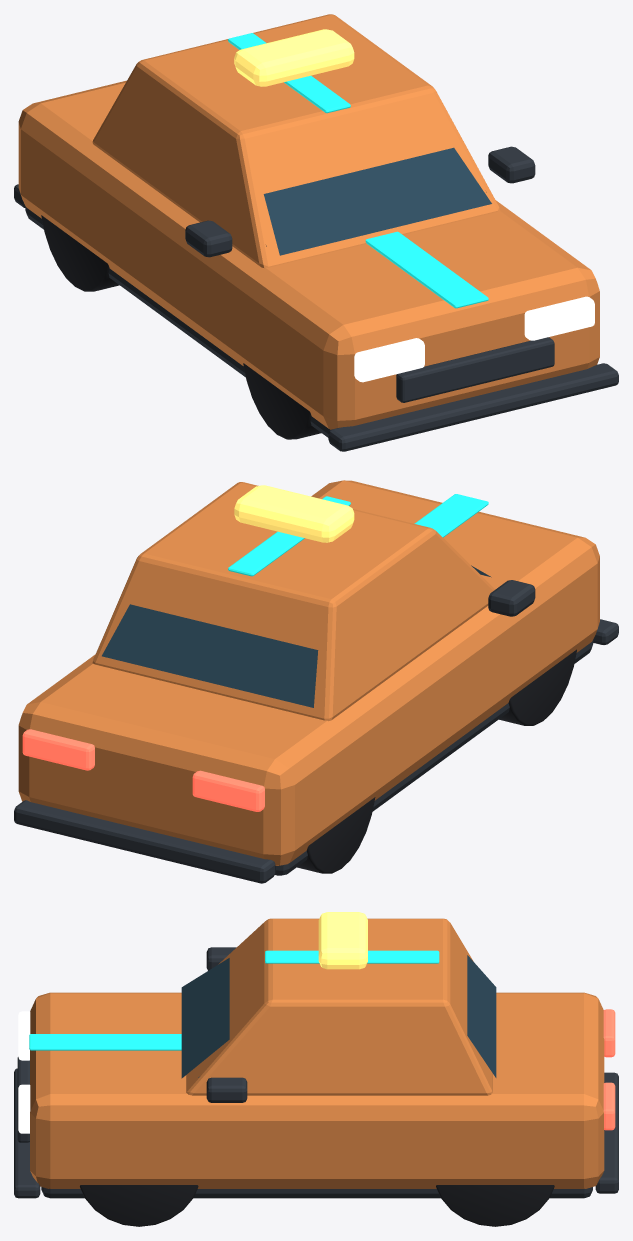
File: city_car.glb
The picture shows the model from 3 angles, top to bottom: view 1: azimuth 30°, elevation 25°; view 2: azimuth 150°, elevation 25°; view 3: azimuth 270°, elevation 25°; orthographic projection. The views are drawn at different scales.
Parts seen in each view (by area): view 1: City_Body, City_Cabin, City_Windshield, City_Front_Splitter, City_Grille, City_Taxi_Sign, City_Hood_Stripe, Wheel_FL.001, Wheel_RL.001, City_Headlamp_L, City_Headlamp_R, City_Lower_Skirt (+3 smaller); view 2: City_Body, City_Cabin, City_Rear_Glass, City_Rear_Diffuser, City_Taxi_Sign, Wheel_FL.001, Wheel_RL.001, City_Taillamp_R, City_Taillamp_L, City_Lower_Skirt, City_Roof_Stripe, City_Hood_Stripe (+1 smaller); view 3: City_Body, City_Cabin, City_Windshield, Wheel_RR.001, Wheel_FR.001, City_Lower_Skirt, City_Taxi_Sign, City_Rear_Glass, City_Hood_Stripe, City_Roof_Stripe, City_Rear_Diffuser, City_Front_Splitter (+6 smaller).
Part boxes in pixels (x1,y1,x2,y2): City_Body: (18,80,599,429); City_Cabin: (92,14,500,268); City_Windshield: (263,147,491,255); City_Front_Splitter: (328,363,618,451); City_Grille: (396,337,554,402); City_Taxi_Sign: (234,29,354,86); City_Hood_Stripe: (365,231,488,308); Wheel_FL.001: (243,363,321,439); Wheel_RL.001: (41,215,119,291); City_Headlamp_L: (354,338,424,382); City_Headlamp_R: (524,296,594,340); City_Lower_Skirt: (25,206,330,437); City_Body: (18,480,599,865); City_Cabin: (92,482,494,721); City_Rear_Glass: (102,604,318,707); City_Rear_Diffuser: (14,800,275,883); City_Taxi_Sign: (234,485,354,542); Wheel_FL.001: (499,649,576,725); Wheel_RL.001: (297,797,375,873); City_Taillamp_R: (22,729,94,770); City_Taillamp_L: (192,770,264,811); City_Lower_Skirt: (275,640,593,875); City_Roof_Stripe: (228,496,350,576); City_Hood_Stripe: (414,494,488,537); City_Body: (30,992,604,1188); City_Cabin: (186,918,492,1095); City_Windshield: (181,958,229,1078); Wheel_RR.001: (436,1185,554,1226); Wheel_FR.001: (80,1185,198,1226); City_Lower_Skirt: (41,1187,592,1198); City_Taxi_Sign: (318,912,367,969); City_Rear_Glass: (467,955,496,1077); City_Hood_Stripe: (29,1034,181,1050); City_Roof_Stripe: (265,950,439,963); City_Rear_Diffuser: (595,1072,618,1193); City_Front_Splitter: (14,1068,40,1198).
Bounding box in the file's own units: 2.32 × 1.82 × 4.16.
